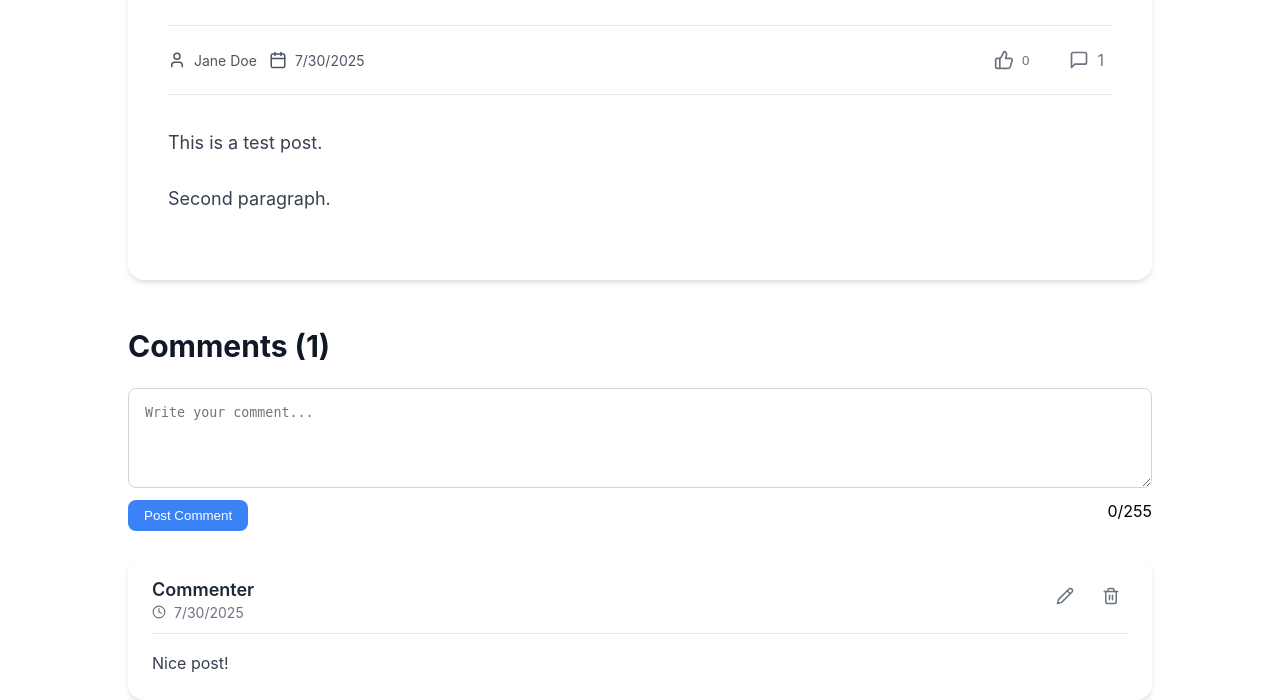
Scenario: <Post /> › adds a new comment on submission
(page scrolled)
Type "New comment" into the text box at (640, 438), box [128,388,1152,488]
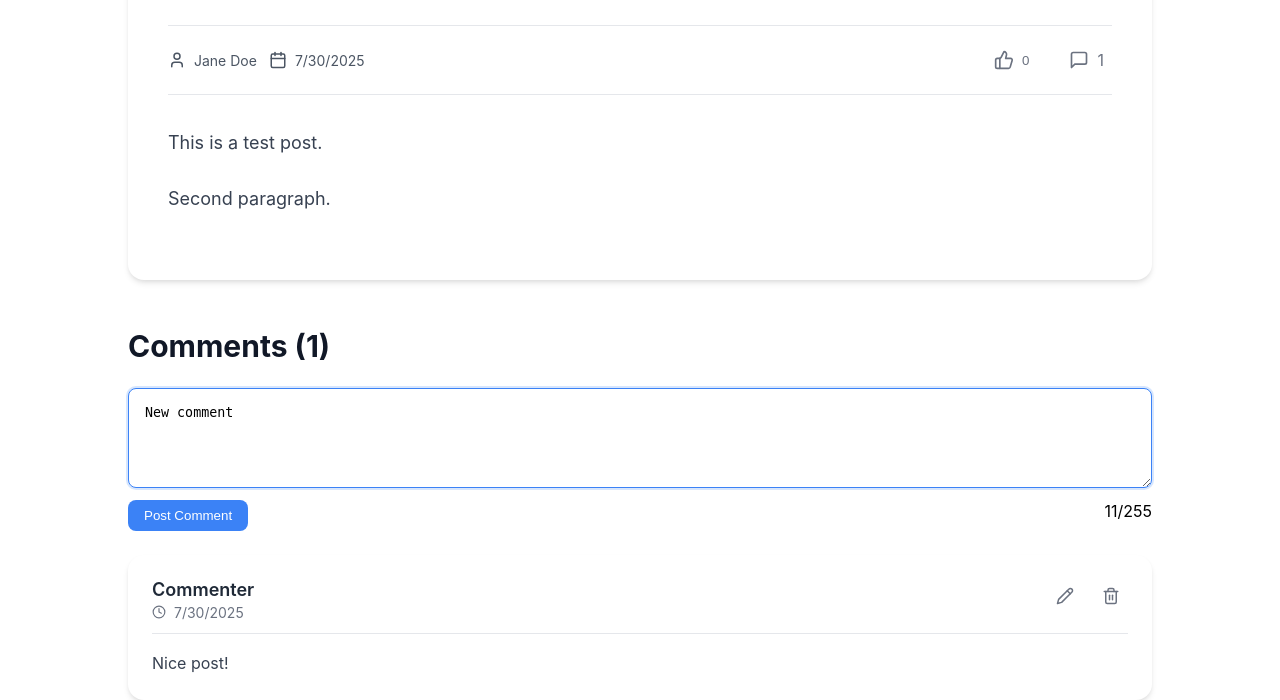
Click the button "Post Comment" at (188, 515), box [128,500,248,531]
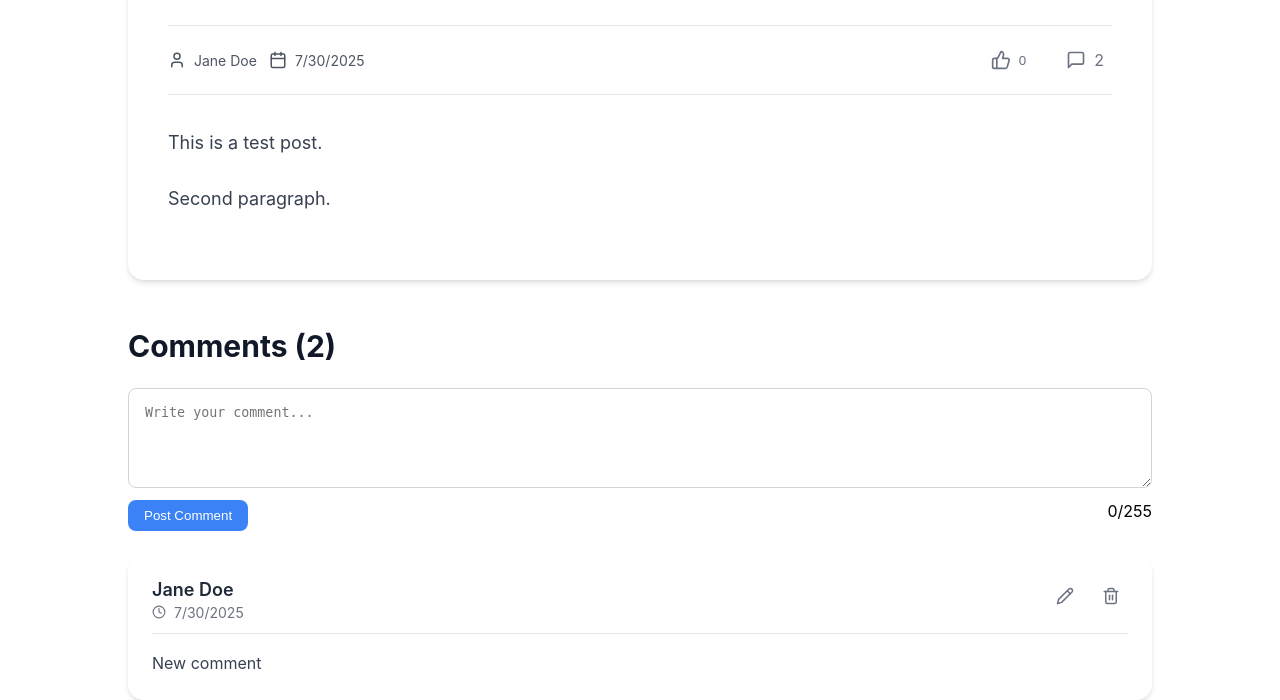
Expected: the text "New comment" is shown, [152,653,262,673]
Expected: the heading "Comments (2)" is shown, [128,328,336,364]
